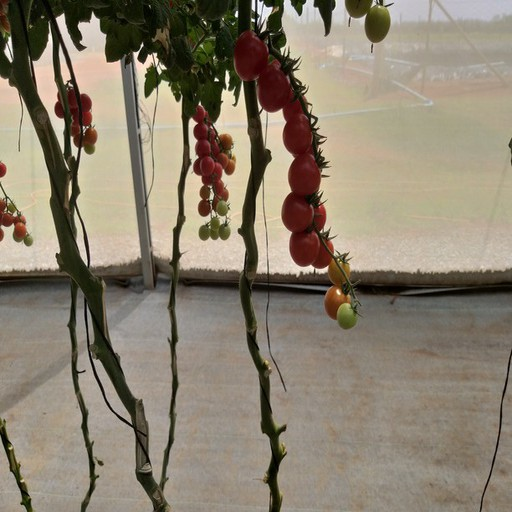mixed tomato bunch: (191, 108, 233, 240), (1, 163, 36, 245)
red tomato bunch: (236, 32, 334, 267), (55, 86, 98, 154)
